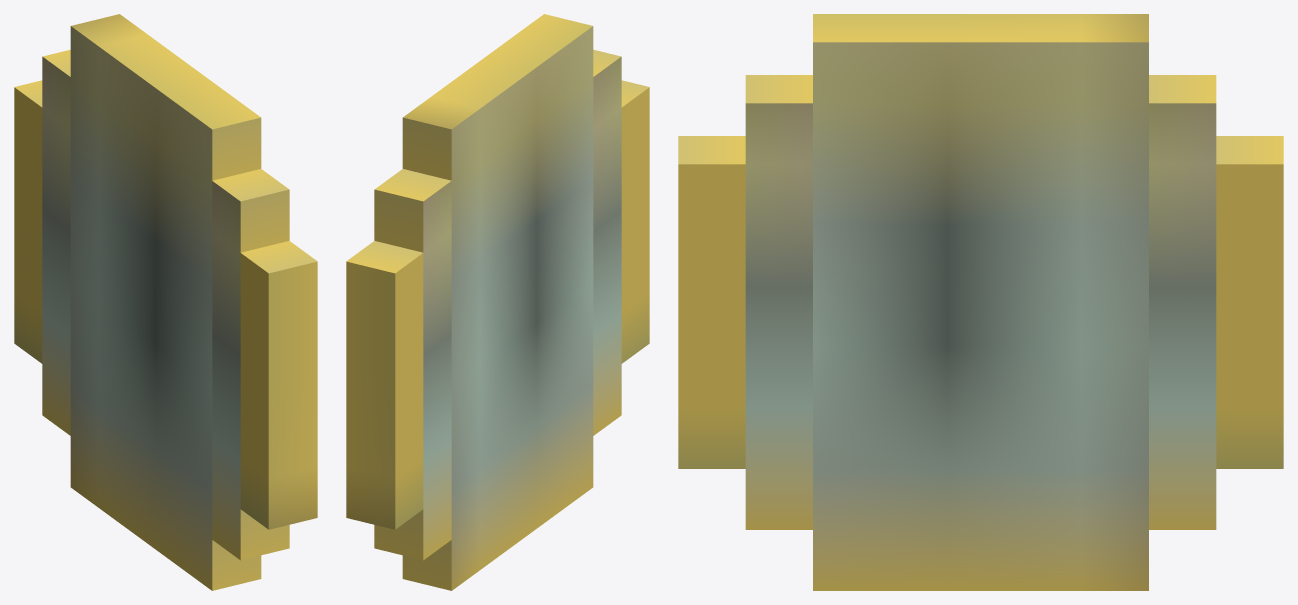
File: ClockYellow_01.obj
3 renders of one model, left to right at view 1: azimuth 30°, elevation 25°; view 2: azimuth 150°, elevation 25°; view 3: azimuth 270°, elevation 25°, orthographic. The views are drawn at different scales.
Parts seen in each view (by area): view 1: ClockYellow_01; view 2: ClockYellow_01; view 3: ClockYellow_01.
Part boxes in pixels (<box>): ClockYellow_01: <box>14,14,317,590</box>; ClockYellow_01: <box>346,14,649,590</box>; ClockYellow_01: <box>678,14,1283,590</box>.
Size of the model in its own units: 0.05 by 0.45 by 0.45.
